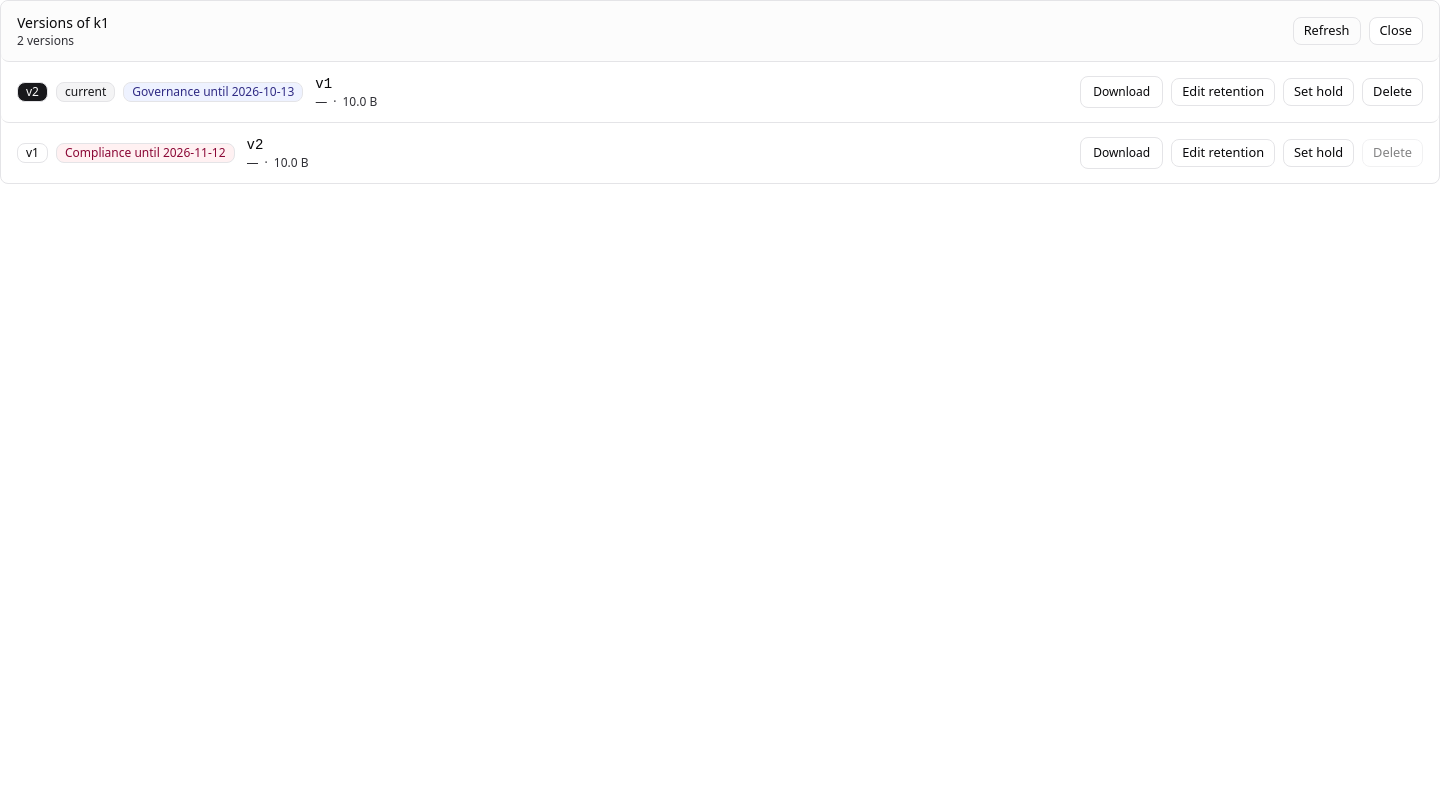
Test case: SetRetentionDialog re-seeds per row on open (audit fe2) › shows each version's own days + mode when its dialog opens
The width and height of the screenshot is (1440, 810).
# Open v1's dialog → ~10 days, Governance.
Click the button with test id "object-version-retention-action-v1" at (1223, 92), box x1=1171 y1=78 x2=1275 y2=106
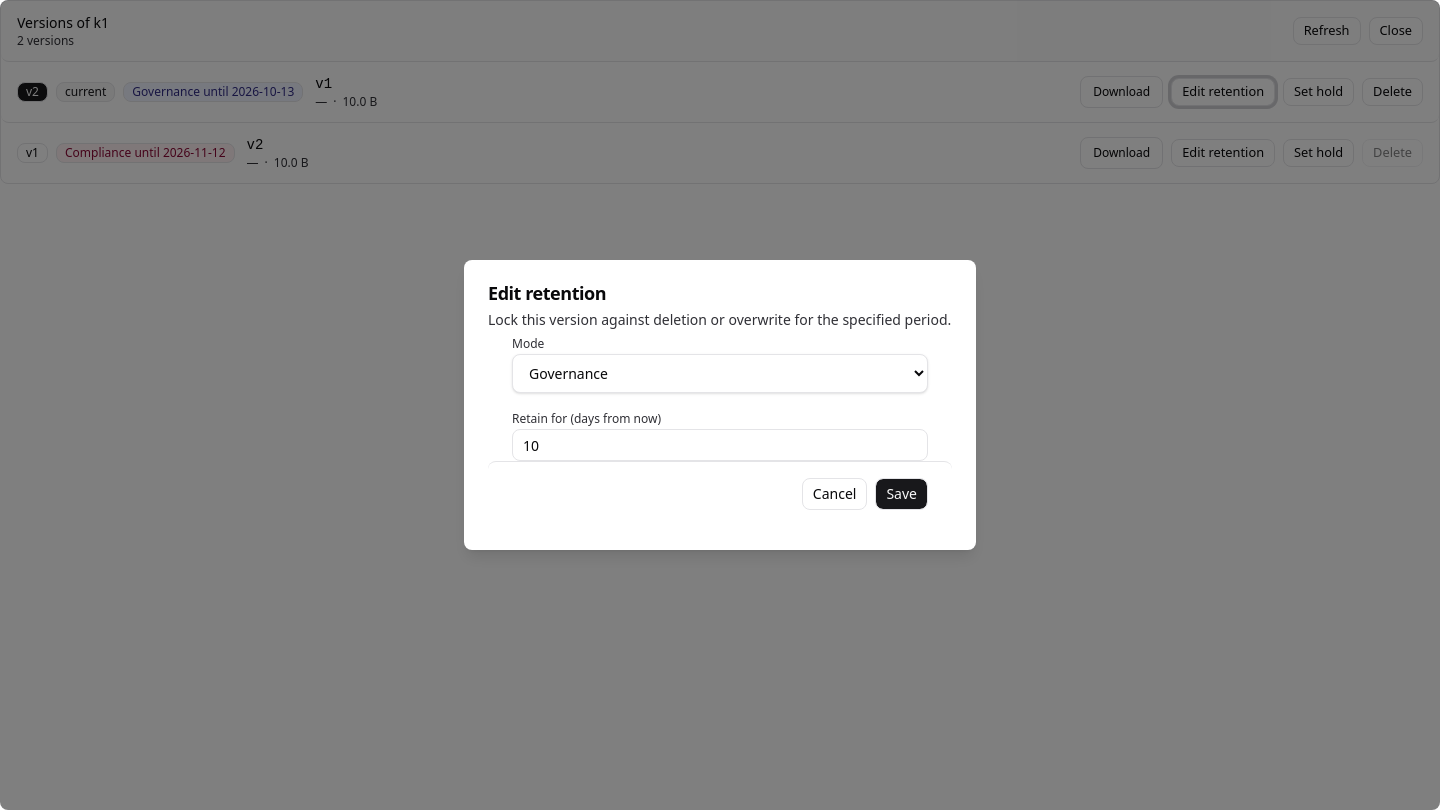
Now the dropdown with test id "set-retention-mode" shows "Governance", box x1=512 y1=354 x2=928 y2=393
# Close it.
Click the button "Cancel" at (835, 494), box x1=802 y1=478 x2=867 y2=510
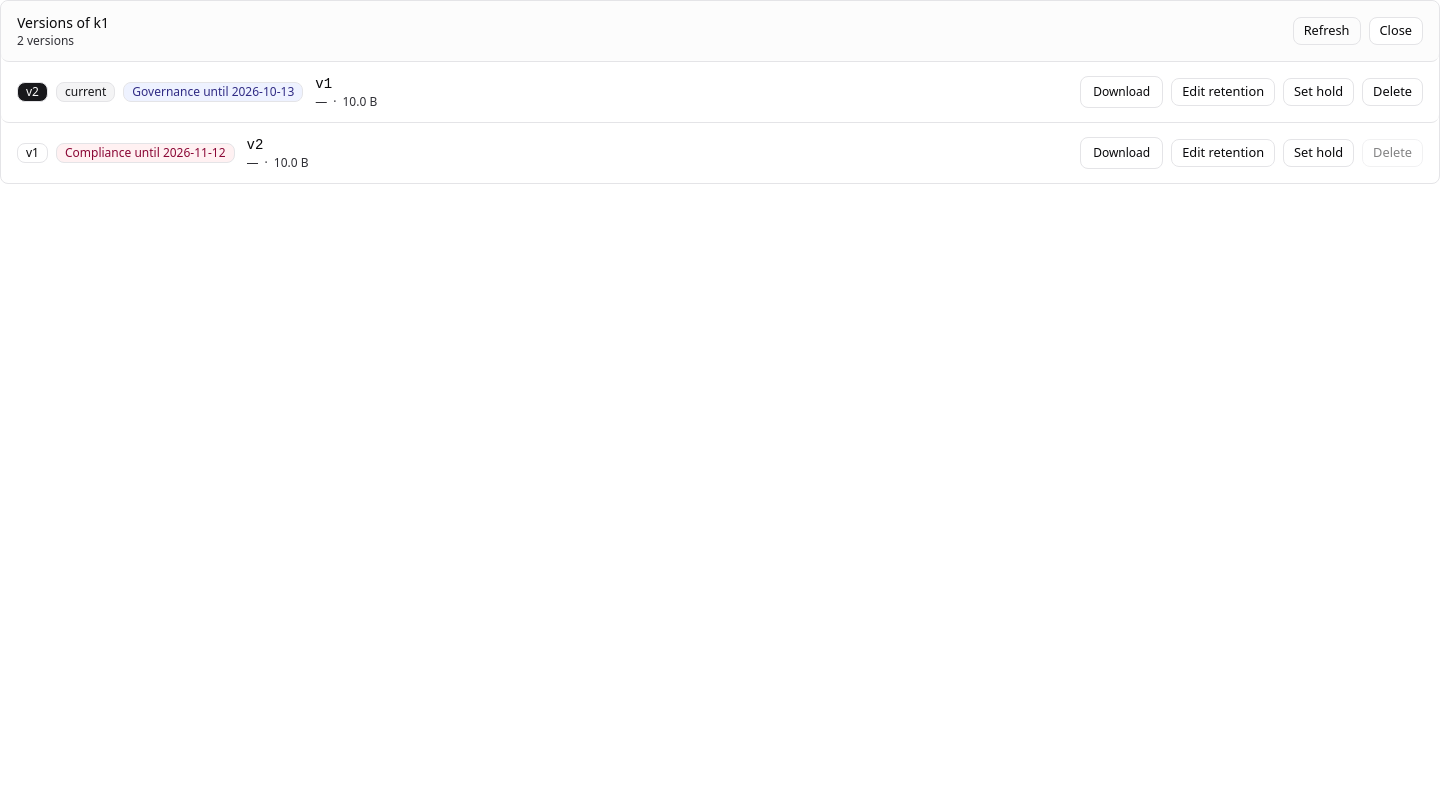
Now the dialog is gone
# Open v2's dialog → must re-seed to ~40 days, Compliance (NOT v1's 10).
Click the button with test id "object-version-retention-action-v2" at (1223, 153), box x1=1171 y1=139 x2=1275 y2=167
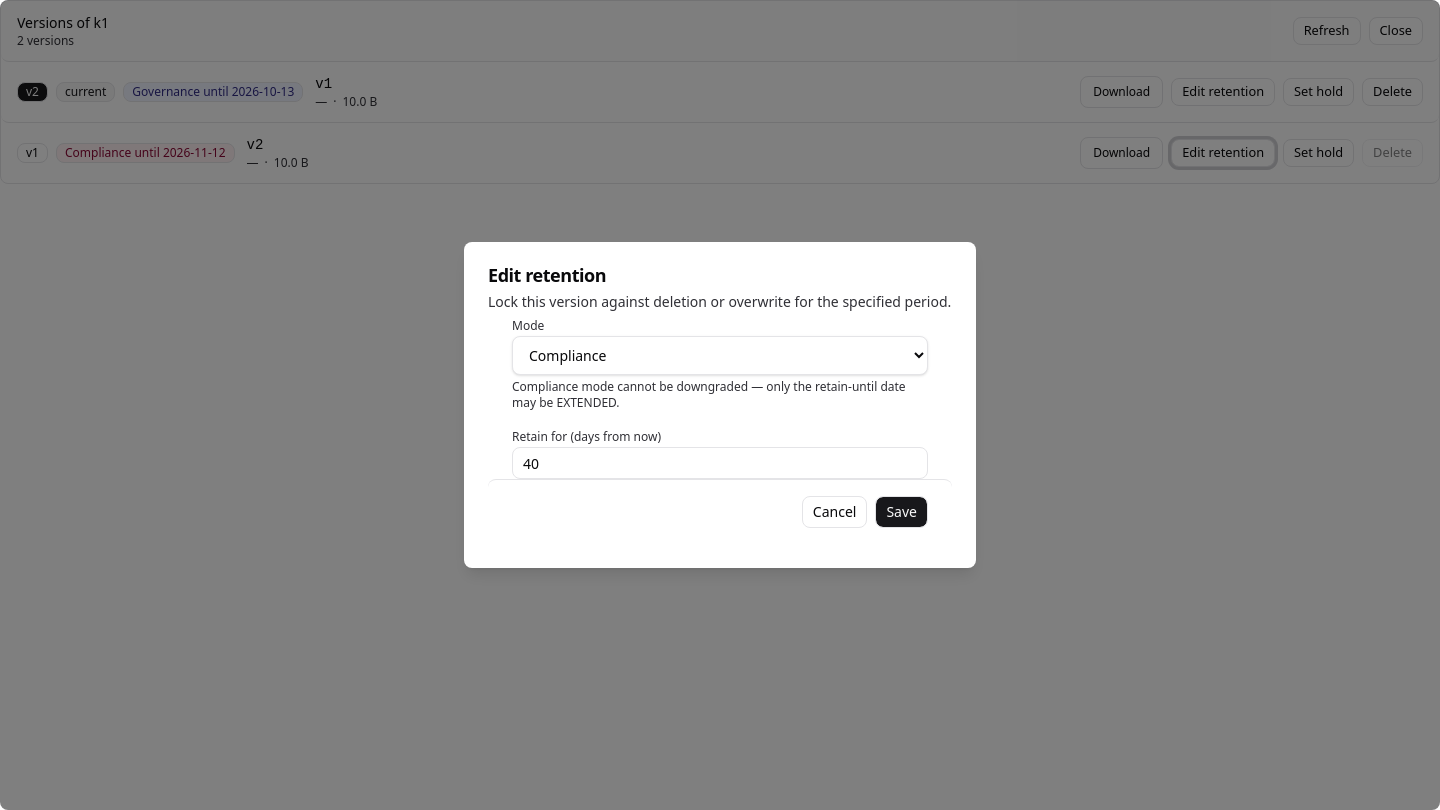
Now the dropdown with test id "set-retention-mode" shows "Compliance", box x1=512 y1=336 x2=928 y2=375
